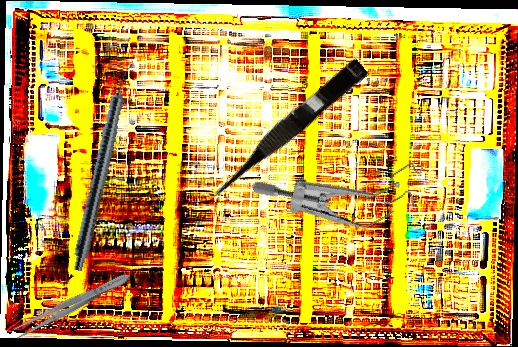Dressing Forceps: (10, 268, 134, 342)
Handpiece: (69, 60, 138, 274)
Micro Scissor: (200, 53, 370, 206)
Speculum: (249, 109, 438, 270)
